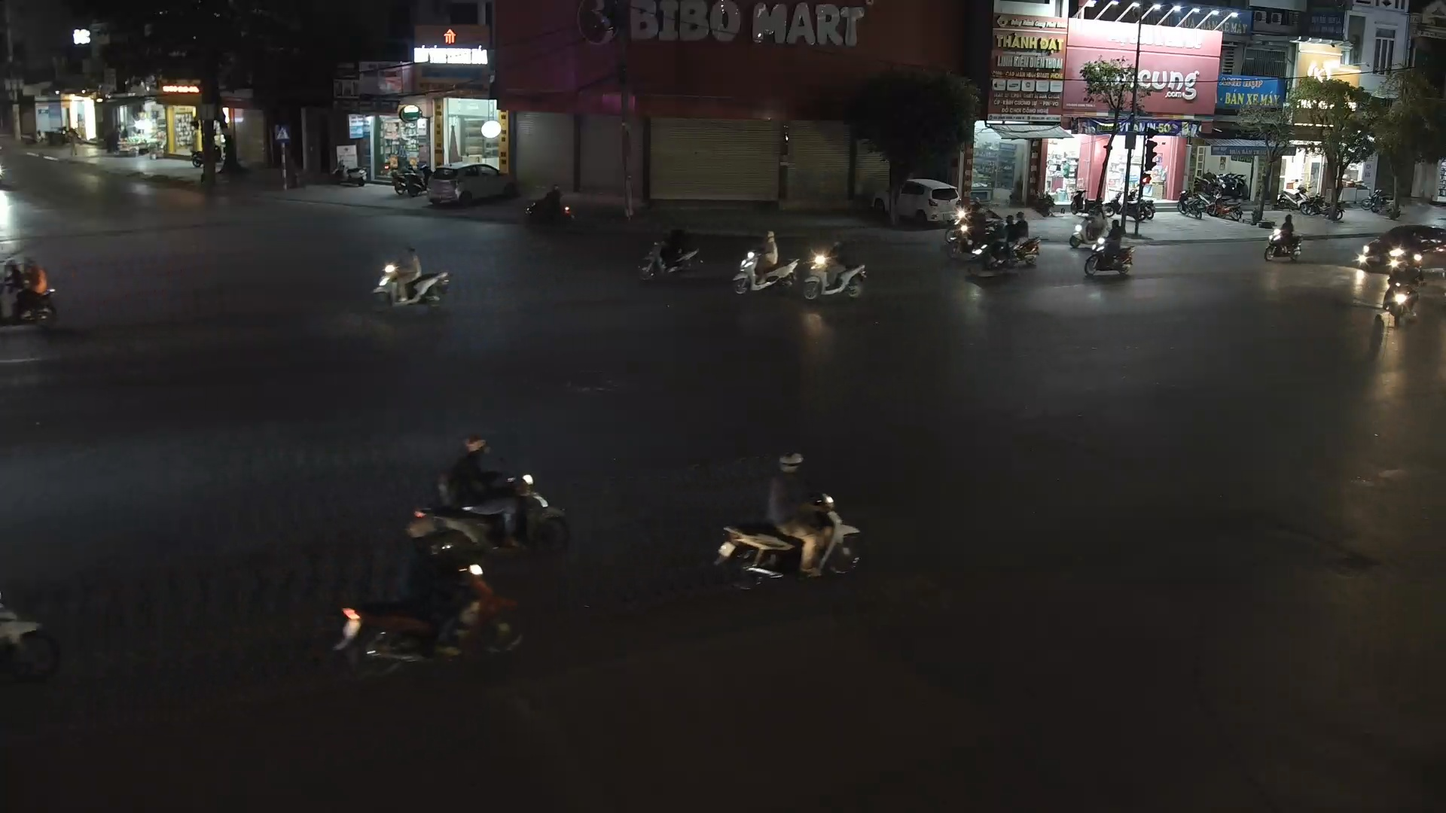car: (1353, 221, 1445, 295), (0, 253, 60, 330)
motorbike: (332, 510, 526, 675), (712, 447, 864, 593), (409, 433, 573, 567), (371, 241, 454, 313), (799, 236, 870, 302), (0, 252, 59, 330), (731, 232, 804, 294), (635, 228, 709, 284), (1375, 256, 1422, 330), (1082, 221, 1135, 281), (1262, 213, 1305, 264)
